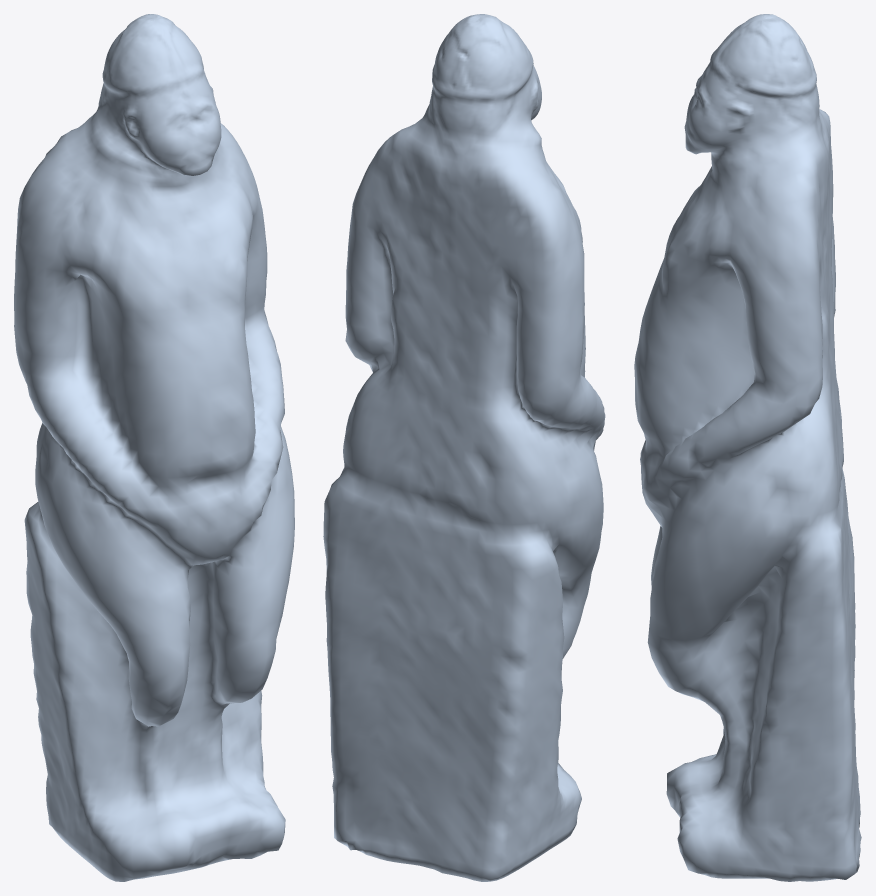
File: scyth_statue_01.dae
The picture shows the model from 3 angles, left to right: view 1: azimuth 30°, elevation 25°; view 2: azimuth 150°, elevation 25°; view 3: azimuth 270°, elevation 25°; orthographic projection.
Visible parts, largest first — view 1: scyth_statue_01; view 2: scyth_statue_01; view 3: scyth_statue_01.
Boxes of the visible parts, bbox=[...] form: scyth_statue_01: bbox=[14, 14, 294, 881]; scyth_statue_01: bbox=[323, 14, 605, 881]; scyth_statue_01: bbox=[634, 14, 861, 881].
Size of the model in its own units: 3.1 by 2.59 by 10.25.
